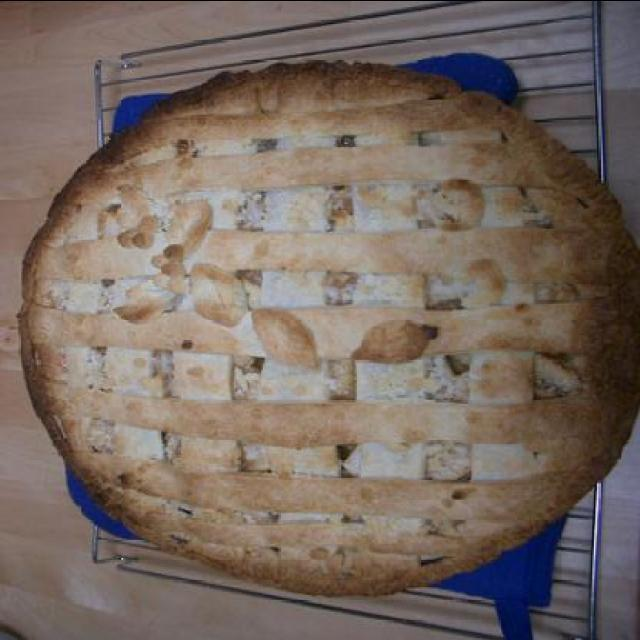Apple: (1, 62, 638, 594)
